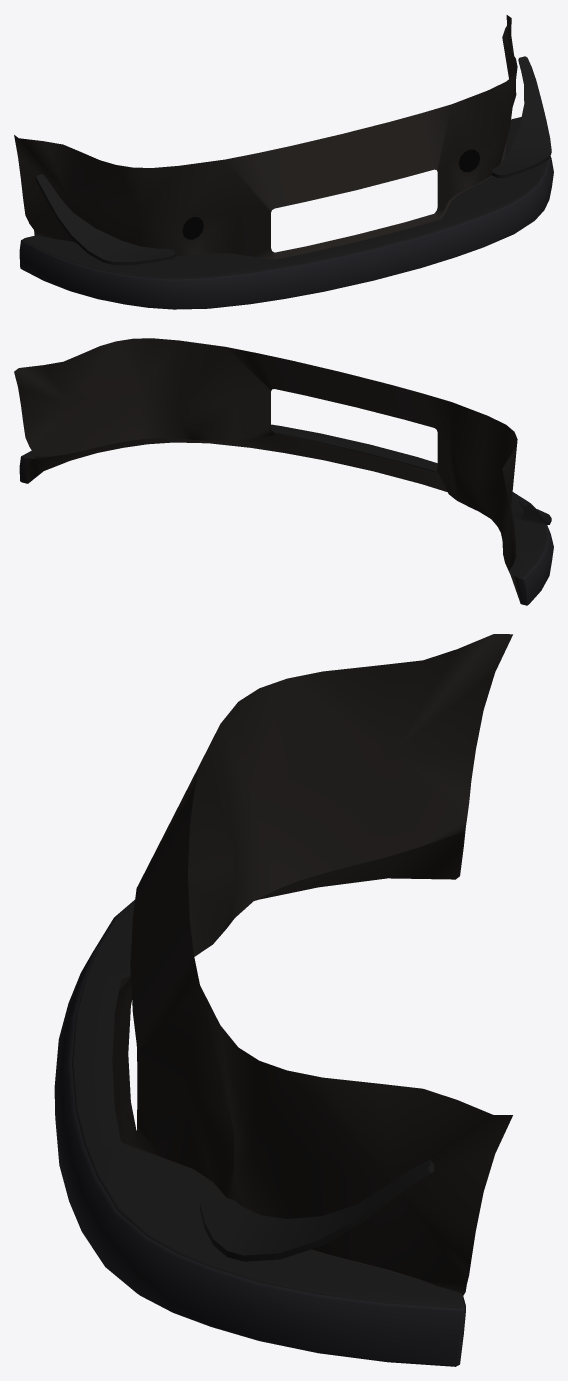
The model's file is RWB_FB_03_Trim.fbx.
The picture shows the model from 3 angles, top to bottom: view 1: azimuth 30°, elevation 25°; view 2: azimuth 150°, elevation 25°; view 3: azimuth 270°, elevation 25°; orthographic projection. The views are drawn at different scales.
Parts seen in each view (by area): view 1: RWB_FB_03_Trim; view 2: RWB_FB_03_Trim; view 3: RWB_FB_03_Trim.
Part boxes in pixels (left/top/right/bottom): RWB_FB_03_Trim: left=14, top=15, right=553, bottom=309; RWB_FB_03_Trim: left=14, top=338, right=553, bottom=605; RWB_FB_03_Trim: left=54, top=634, right=512, bottom=1366.
Bounding box in the file's own units: 170 × 39.25 × 66.4.
